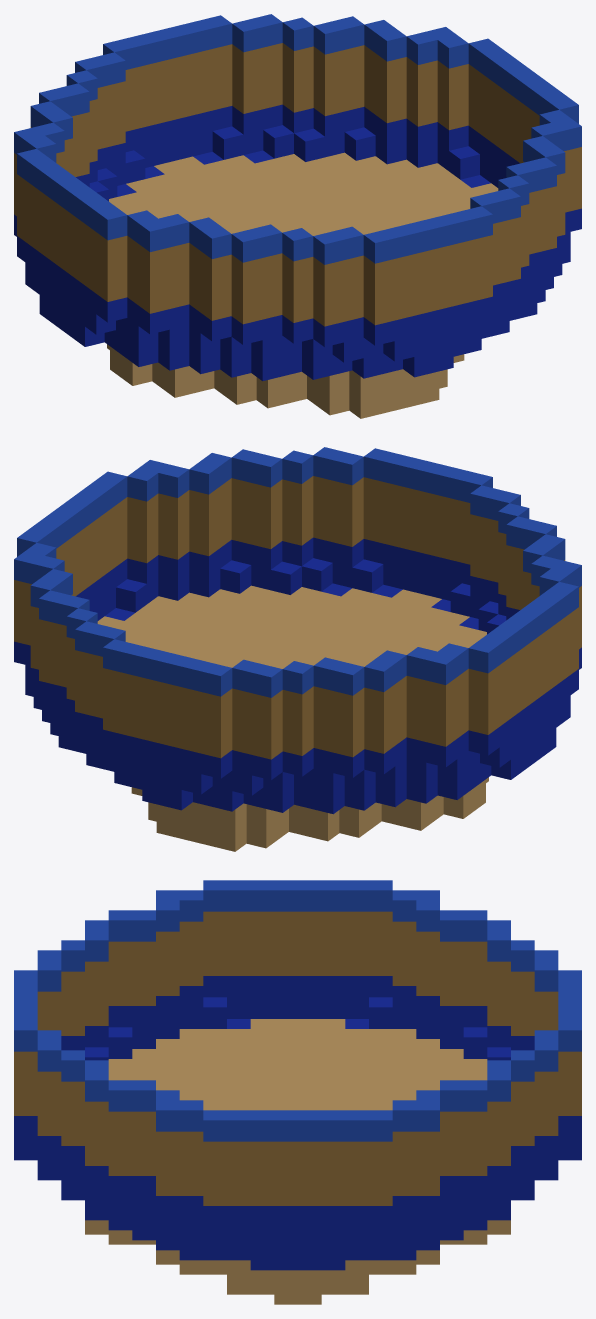
File: Medieval Assets-49-Decoration - Desert - Urn Shallow - Variant2.obj
The picture shows the model from 3 angles, top to bottom: view 1: azimuth 30°, elevation 25°; view 2: azimuth 150°, elevation 25°; view 3: azimuth 270°, elevation 25°; orthographic projection. The views are drawn at different scales.
Visible parts, largest first — view 1: Decoration - Desert - Urn Shallow - Variant2; view 2: Decoration - Desert - Urn Shallow - Variant2; view 3: Decoration - Desert - Urn Shallow - Variant2.
Part boxes in pixels (left/top/right/bottom): Decoration - Desert - Urn Shallow - Variant2: left=14, top=14, right=581, bottom=418; Decoration - Desert - Urn Shallow - Variant2: left=14, top=447, right=581, bottom=851; Decoration - Desert - Urn Shallow - Variant2: left=14, top=880, right=581, bottom=1304.
Bounding box in the file's own units: 2.4 × 1 × 2.4.
1 material, 1 textured.
